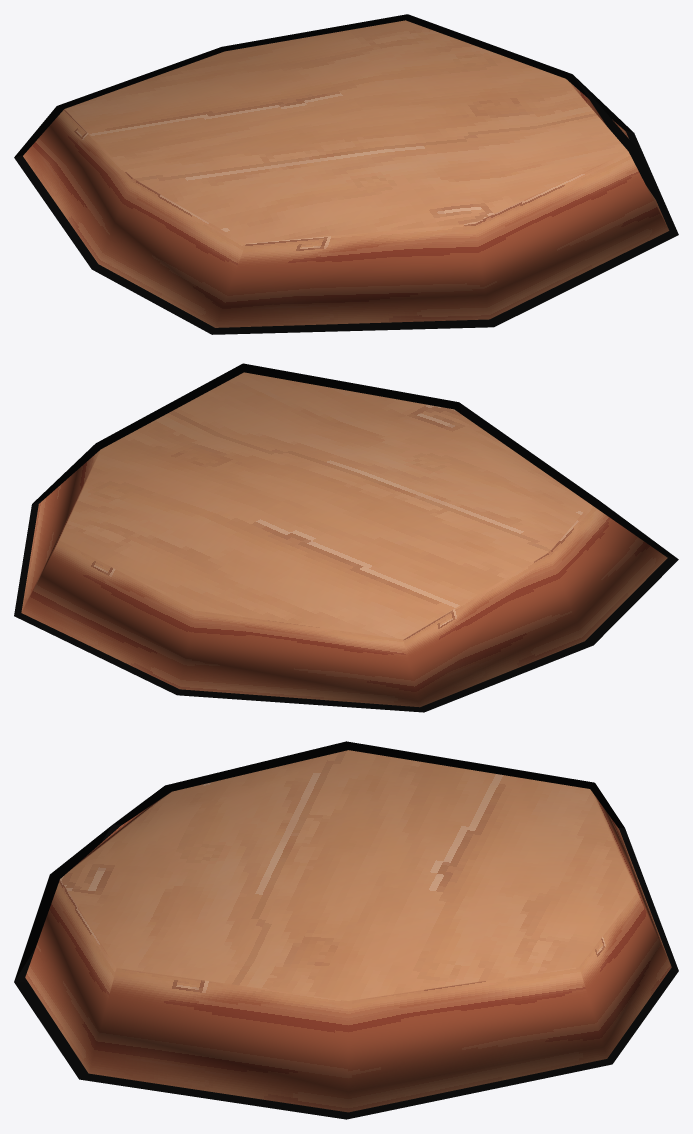
File: rock_flat.glb
3 renders of one model, top to bottom at view 1: azimuth 30°, elevation 25°; view 2: azimuth 150°, elevation 25°; view 3: azimuth 270°, elevation 25°, orthographic. The views are drawn at different scales.
Visible parts, largest first — view 1: rock_flat, rock_flat_outline; view 2: rock_flat, rock_flat_outline; view 3: rock_flat, rock_flat_outline.
Boxes of the visible parts, x1,y1,x2,y2 form: rock_flat: (23,20,669,327); rock_flat_outline: (14,14,678,334); rock_flat: (21,372,667,707); rock_flat_outline: (14,363,678,712); rock_flat: (25,750,671,1112); rock_flat_outline: (14,741,678,1119).
Bounding box in the file's own units: 3.62 × 0.7062 × 3.33.
2 materials, 1 textured.
